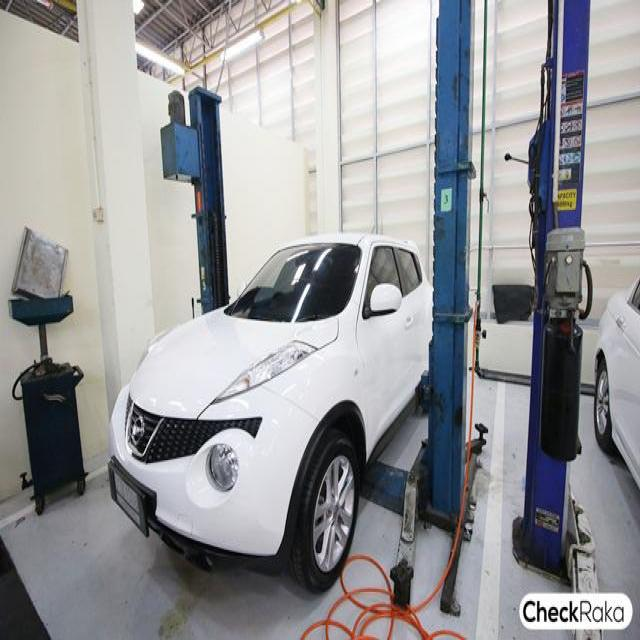back_left_door: (395, 244, 425, 393)
front_bumper: (109, 380, 320, 555)
front_glass: (224, 243, 361, 321)
front_left_door: (356, 242, 414, 446)
front_left_light: (212, 341, 321, 404)
hood: (130, 308, 338, 417)
left_mirror: (364, 282, 402, 321)
wheel: (284, 431, 362, 594)
